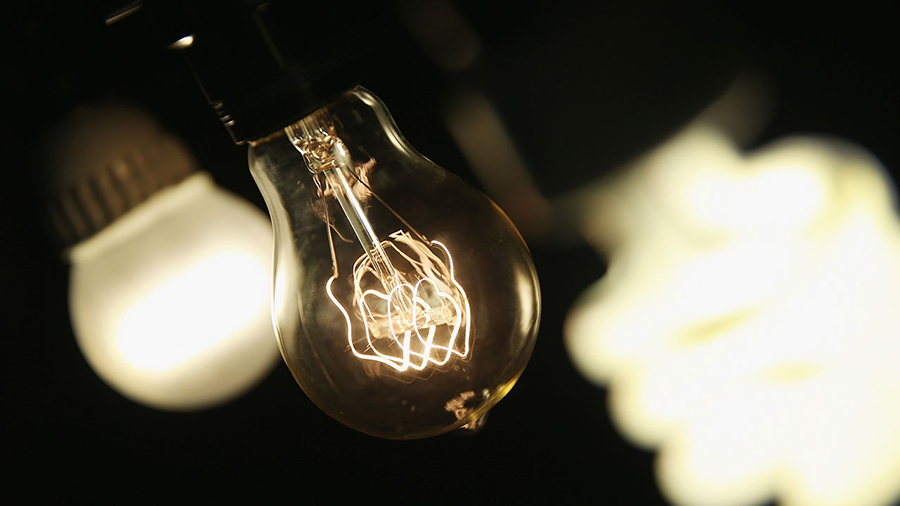Light bulb: (238, 81, 549, 449)
